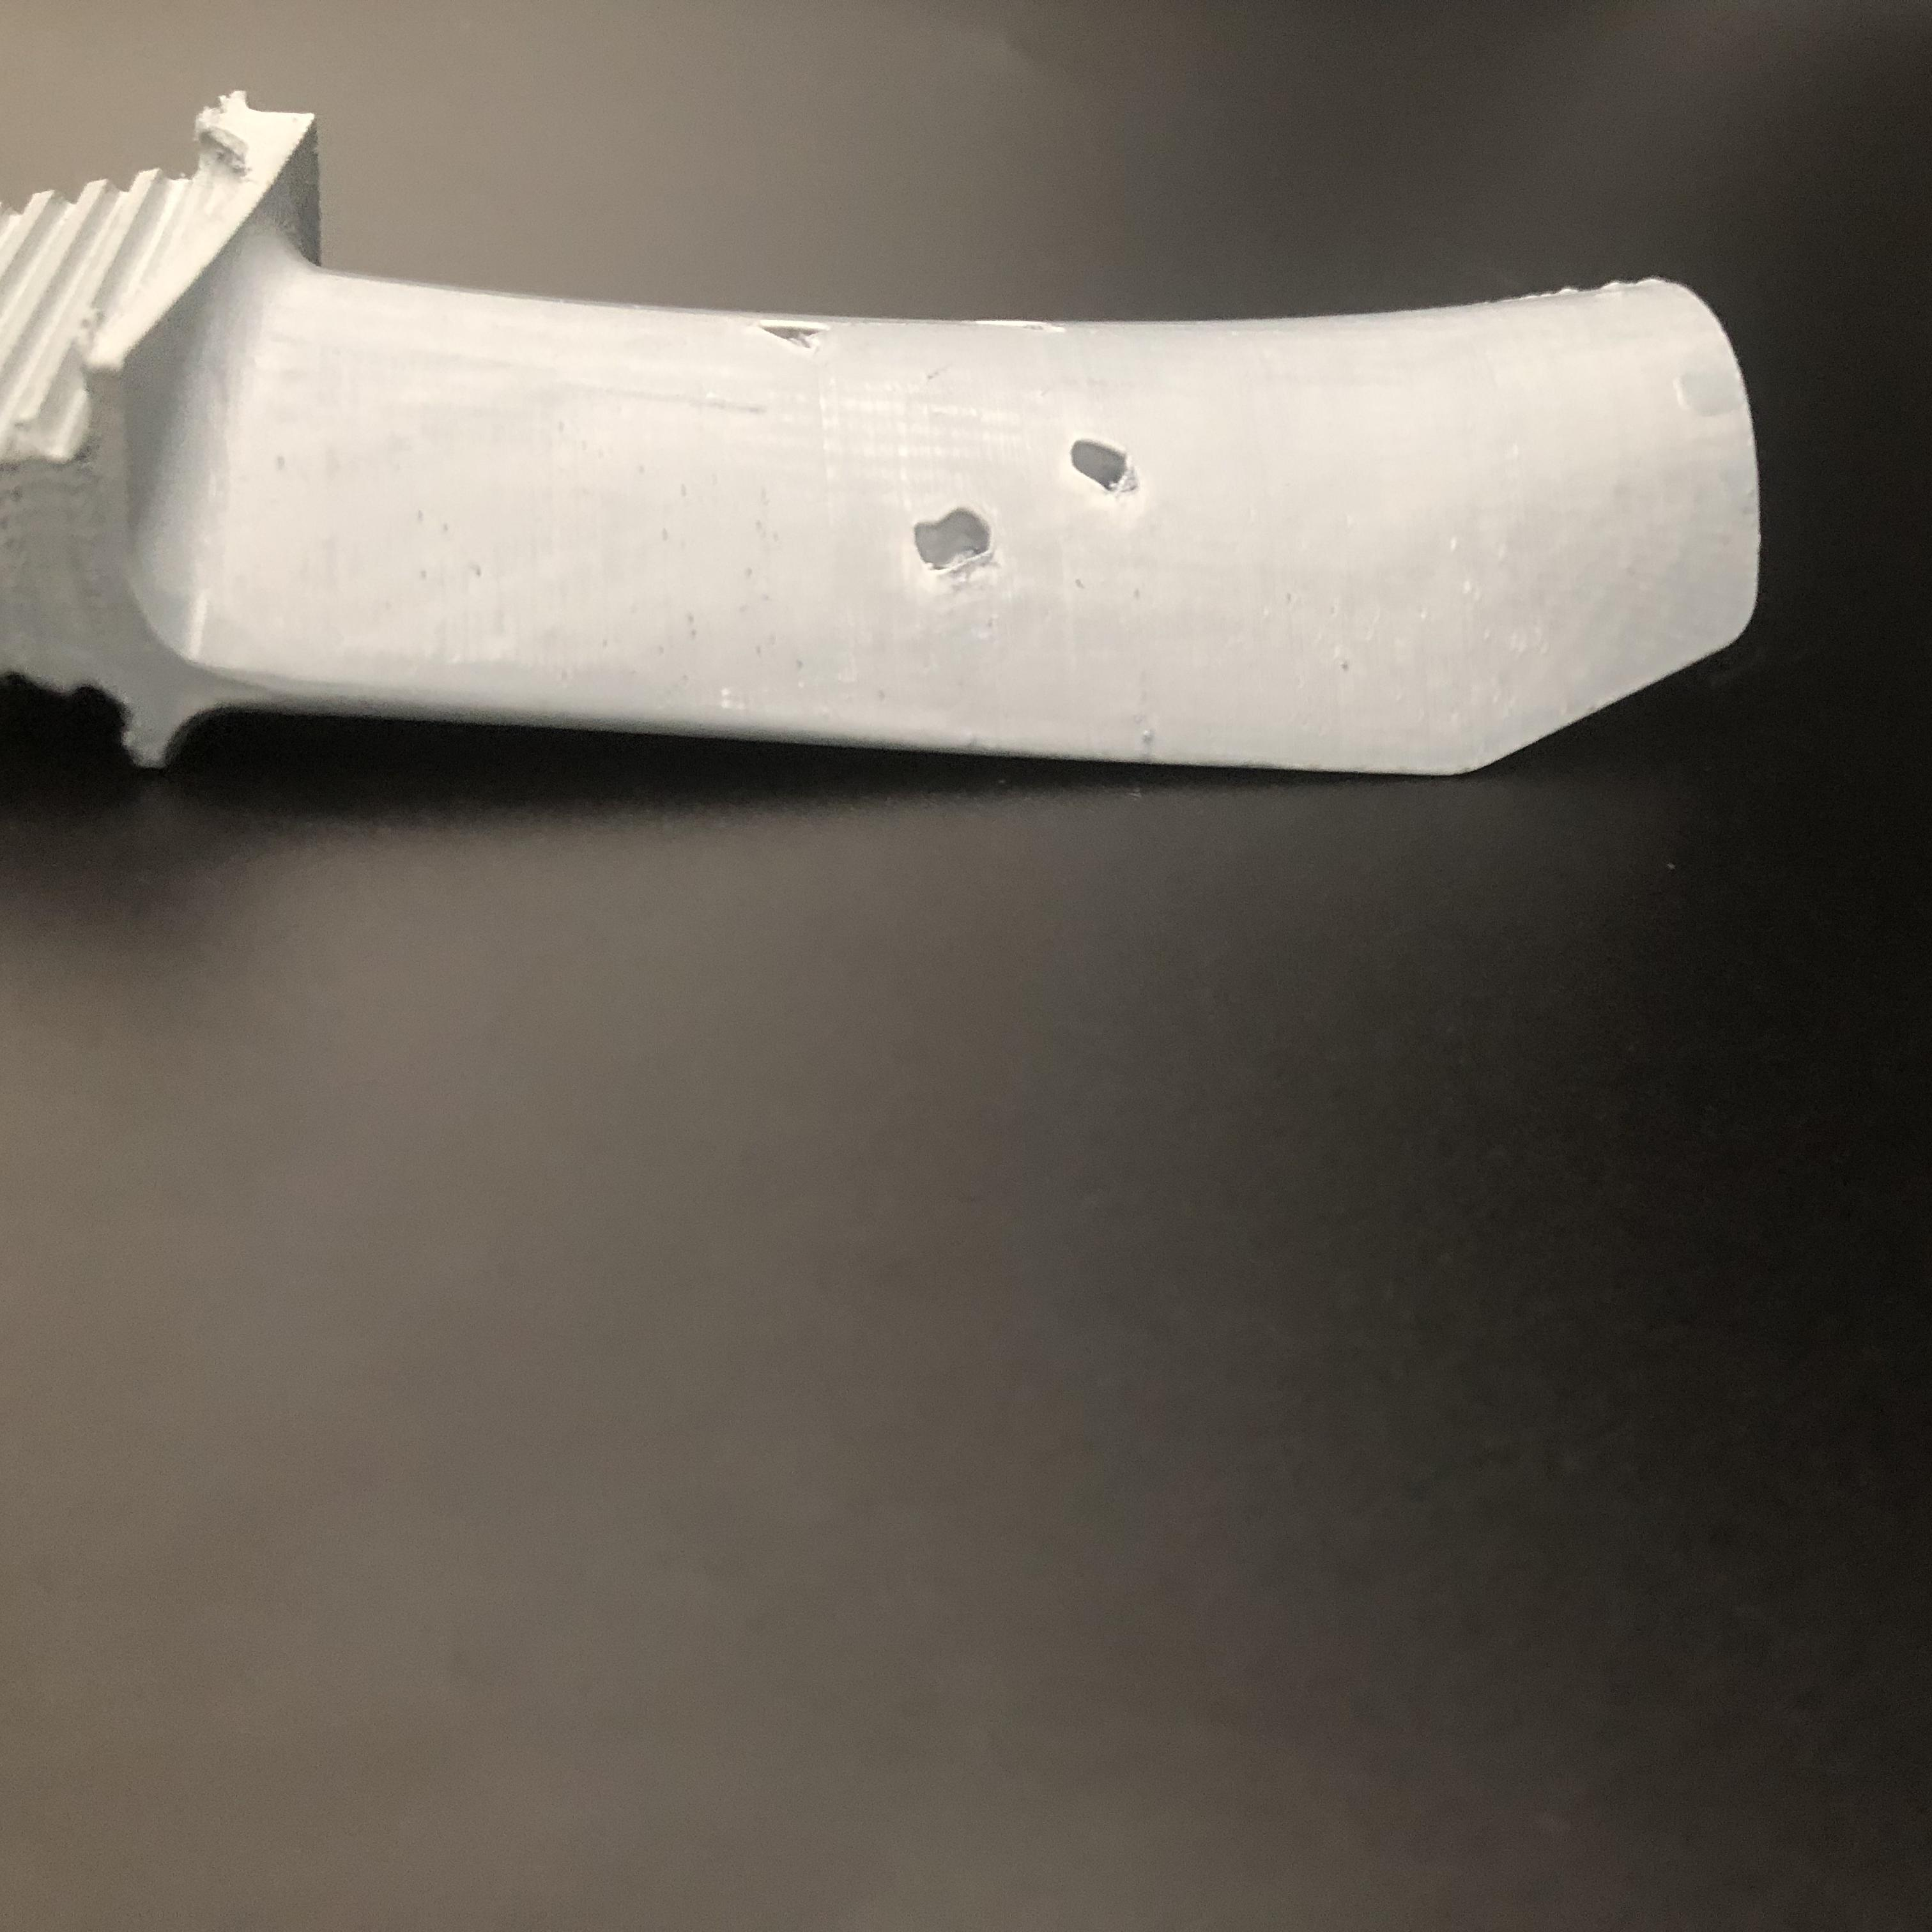breakdown: (920, 432, 1146, 584), (750, 303, 858, 373)
